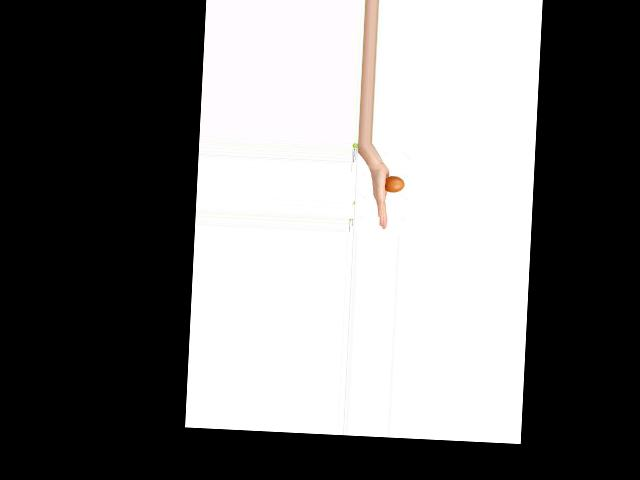egg: (384, 176, 404, 193)
